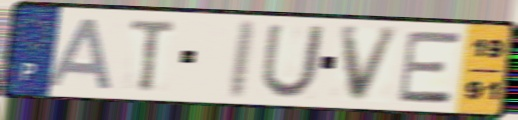A: (43, 16, 117, 92)
E: (395, 30, 463, 106)
I: (223, 18, 260, 102)
T: (126, 17, 180, 94)
U: (257, 22, 328, 101)
V: (337, 25, 405, 105)
